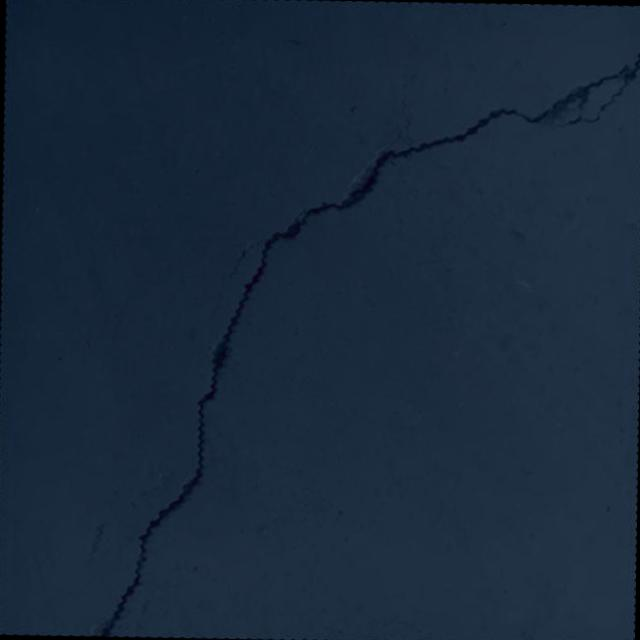crack: (91, 17, 640, 640), (208, 243, 255, 344)
